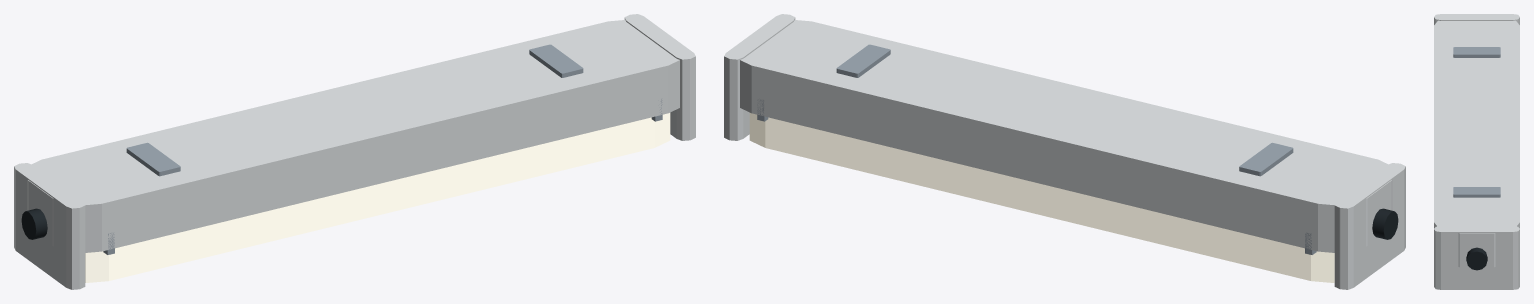
File: source.glb
The picture shows the model from 3 angles, left to right: view 1: azimuth 30°, elevation 25°; view 2: azimuth 150°, elevation 25°; view 3: azimuth 270°, elevation 25°; orthographic projection. The views are drawn at different scales.
Parts seen in each view (by area): view 1: 粉末涂层铝壳, Emitters, 机加工金属, 密封及绝缘件; view 2: 粉末涂层铝壳, Emitters, 机加工金属, 密封及绝缘件; view 3: 粉末涂层铝壳, 机加工金属, 密封及绝缘件.
Part boxes in pixels (bbox=[...]): 粉末涂层铝壳: bbox=[14, 14, 695, 289]; Emitters: bbox=[85, 113, 670, 282]; 机加工金属: bbox=[103, 44, 662, 254]; 密封及绝缘件: bbox=[21, 208, 47, 239]; 粉末涂层铝壳: bbox=[724, 14, 1405, 289]; Emitters: bbox=[749, 113, 1334, 282]; 机加工金属: bbox=[757, 44, 1316, 254]; 密封及绝缘件: bbox=[1372, 208, 1398, 239]; 粉末涂层铝壳: bbox=[1434, 14, 1519, 289]; 机加工金属: bbox=[1453, 47, 1500, 197]; 密封及绝缘件: bbox=[1466, 247, 1487, 270].
Size of the model in its own units: 0.5182 by 0.0658 by 0.083.
